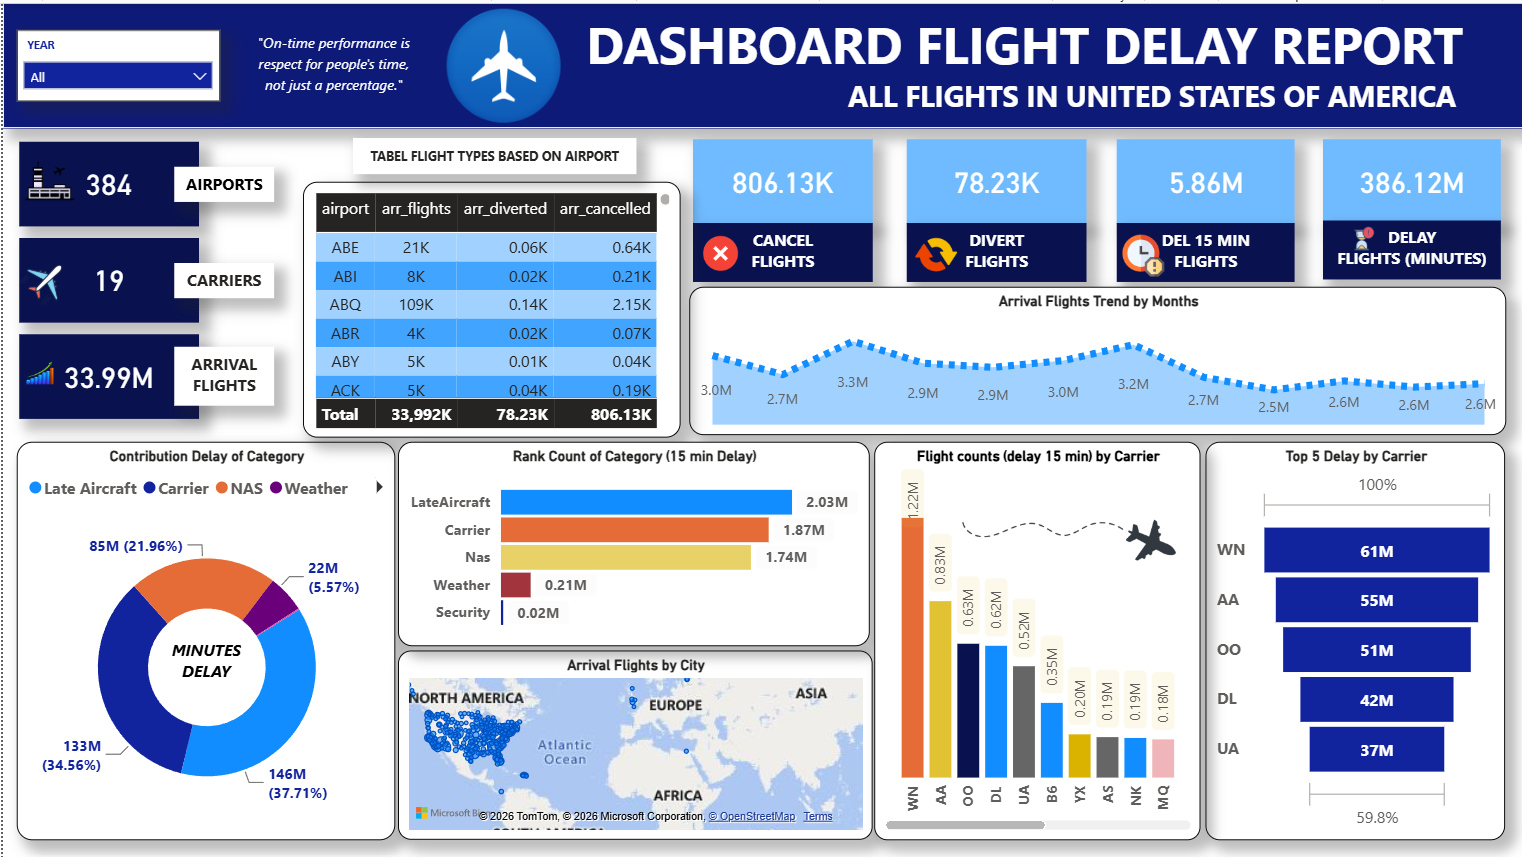

The page's visual inventory and layout, read from the dashboard file:
{"tool":"powerbi","page":{"name":"Page 1","canvas":[1280,720],"ordinal":0},"visuals":[{"type":"textbox","box":[0,0,1280,105.6],"z":0},{"type":"card","fields":{"Values":["Count(Airline_Delay_Cause.airport)"]},"box":[13.7,116.6,150.9,71.3],"z":1000},{"type":"card","fields":{"Values":["Count(Airline_Delay_Cause.carrier)"]},"box":[13.7,197.6,150.9,71.3],"z":2000},{"type":"card","fields":{"Values":["Sum(Airline_Delay_Cause.arr_flights)"]},"box":[13.7,278.5,150.9,71.3],"z":3000},{"type":"card","fields":{"Values":["Sum(Airline_Delay_Cause.arr_cancelled)"]},"box":[580.4,114.2,151.3,71.3],"z":4000},{"type":"card","fields":{"Values":["Sum(Airline_Delay_Cause.arr_diverted)"]},"box":[760.2,114.2,151.3,71.3],"z":5000},{"type":"card","fields":{"Values":["Sum(Airline_Delay_Cause.arr_del15)"]},"box":[937.1,114.2,149.8,71.3],"z":6000},{"type":"card","fields":{"Values":["Sum(Airline_Delay_Cause.arr_delay)"]},"box":[1110.2,114.2,149.8,71.3],"z":7000},{"type":"textbox","box":[144.2,137.2,84.2,30],"z":8000},{"type":"textbox","box":[144.2,218.6,84.2,30],"z":9000},{"type":"textbox","box":[144.2,289.5,84.2,49.9],"z":10000},{"type":"textbox","box":[580.4,185.5,151.3,49.9],"z":11000},{"type":"textbox","box":[760.2,185.5,151.3,49.9],"z":12000},{"type":"textbox","box":[937.1,185.5,149.8,49.9],"z":13000},{"type":"textbox","box":[1110.2,182.7,149.8,49.9],"z":14000},{"type":"donutChart","title":"Contribution Delay of Category","fields":{"Category":["Delay_Categories.Category"],"Y":["Delay_Categories.Selected_Delay_Value"]},"box":[11.6,368.6,318.6,334.9],"z":15000},{"type":"textbox","box":[131.4,530.2,79.1,50],"z":16000},{"type":"stackedAreaChart","title":"Arrival Flights Trend by Months","fields":{"Category":["Airline_Delay_Cause.month"],"Y":["Sum(Airline_Delay_Cause.arr_flights)"]},"box":[576.7,238.4,687.2,124.4],"z":17000},{"type":"funnel","title":"Top 5 Delay by Carrier","fields":{"Category":["Airline_Delay_Cause.carrier"],"Y":["Sum(Airline_Delay_Cause.arr_delay)"]},"box":[1011.6,368.6,252.3,334.9],"z":18000},{"type":"tableEx","fields":{"Values":["Airline_Delay_Cause.airport","Sum(Airline_Delay_Cause.arr_flights)","Sum(Airline_Delay_Cause.arr_diverted)","Sum(Airline_Delay_Cause.arr_cancelled)"]},"box":[252.3,150,317.4,215.1],"z":19000},{"type":"map","title":"Arrival Flights by City","fields":{"Category":["Airline_Delay_Cause.City"],"Size":["Sum(Airline_Delay_Cause.arr_flights)"]},"box":[332.6,544.2,398.8,159.3],"z":20000},{"type":"clusteredBarChart","title":"Rank Count of Category (15 min Delay)","fields":{"Category":["Delay Category Weight.Category_weight"],"Y":["Delay Category Weight.Delay15min_ct"]},"box":[332.6,368.6,396.5,172.1],"z":21000},{"type":"image","box":[14,123.3,51.2,52.3],"z":22000},{"type":"image","box":[7,215.1,48.8,43],"z":23000},{"type":"image","box":[11.6,289.5,39.5,44.2],"z":24000},{"type":"image","box":[580.2,188.4,46.5,45.3],"z":25000},{"type":"image","box":[760.5,186,50,51.2],"z":26000},{"type":"image","box":[937.2,186,45.3,52.3],"z":27000},{"type":"image","box":[1119.8,182.6,50,30.2],"z":28000},{"type":"image","box":[366.3,0,110.5,105.8],"z":29000},{"type":"textbox","box":[294.2,114,238.4,30.2],"z":30000},{"type":"columnChart","title":"Flight counts (delay 15 min) by Carrier","fields":{"Category":["Airline_Delay_Cause.carrier"],"Y":["Sum(Airline_Delay_Cause.arr_del15)"]},"box":[732.6,368.6,274.4,334.9],"z":31000},{"type":"image","box":[769.8,301.2,265.1,266.3],"z":32000},{"type":"slicer","fields":{"Values":["Airline_Delay_Cause.year"]},"box":[11.6,22.1,170.9,60.5],"z":33000},{"type":"textbox","box":[204.7,18.6,146.5,67.4],"z":34000}]}

Visuals, with their boxes in screenshot pixels (x1, y1, x2, y2), scaled from the page's 1280x720 canvas onto the 1522x857 screenshot:
textbox: bbox=(0, 0, 1521, 126)
card - Count(Airline_Delay_Cause.airport): bbox=(16, 139, 196, 224)
card - Count(Airline_Delay_Cause.carrier): bbox=(16, 235, 196, 320)
card - Sum(Airline_Delay_Cause.arr_flights): bbox=(16, 331, 196, 416)
card - Sum(Airline_Delay_Cause.arr_cancelled): bbox=(690, 136, 870, 221)
card - Sum(Airline_Delay_Cause.arr_diverted): bbox=(904, 136, 1084, 221)
card - Sum(Airline_Delay_Cause.arr_del15): bbox=(1114, 136, 1292, 221)
card - Sum(Airline_Delay_Cause.arr_delay): bbox=(1320, 136, 1498, 221)
textbox: bbox=(171, 163, 272, 199)
textbox: bbox=(171, 260, 272, 296)
textbox: bbox=(171, 345, 272, 404)
textbox: bbox=(690, 221, 870, 280)
textbox: bbox=(904, 221, 1084, 280)
textbox: bbox=(1114, 221, 1292, 280)
textbox: bbox=(1320, 217, 1498, 277)
"Contribution Delay of Category" donutChart: bbox=(14, 439, 393, 837)
textbox: bbox=(156, 631, 250, 691)
"Arrival Flights Trend by Months" stackedAreaChart: bbox=(686, 284, 1503, 432)
"Top 5 Delay by Carrier" funnel: bbox=(1203, 439, 1503, 837)
tableEx - Airline_Delay_Cause.airport x Sum(Airline_Delay_Cause.arr_flights): bbox=(300, 179, 677, 435)
"Arrival Flights by City" map: bbox=(395, 648, 870, 837)
"Rank Count of Category (15 min Delay)" clusteredBarChart: bbox=(395, 439, 867, 644)
image: bbox=(17, 147, 78, 209)
image: bbox=(8, 256, 66, 307)
image: bbox=(14, 345, 61, 397)
image: bbox=(690, 224, 745, 278)
image: bbox=(904, 221, 964, 282)
image: bbox=(1114, 221, 1168, 284)
image: bbox=(1332, 217, 1391, 253)
image: bbox=(436, 0, 567, 126)
textbox: bbox=(350, 136, 633, 172)
"Flight counts (delay 15 min) by Carrier" columnChart: bbox=(871, 439, 1197, 837)
image: bbox=(915, 359, 1231, 675)
slicer - Airline_Delay_Cause.year: bbox=(14, 26, 217, 98)
textbox: bbox=(243, 22, 418, 102)
